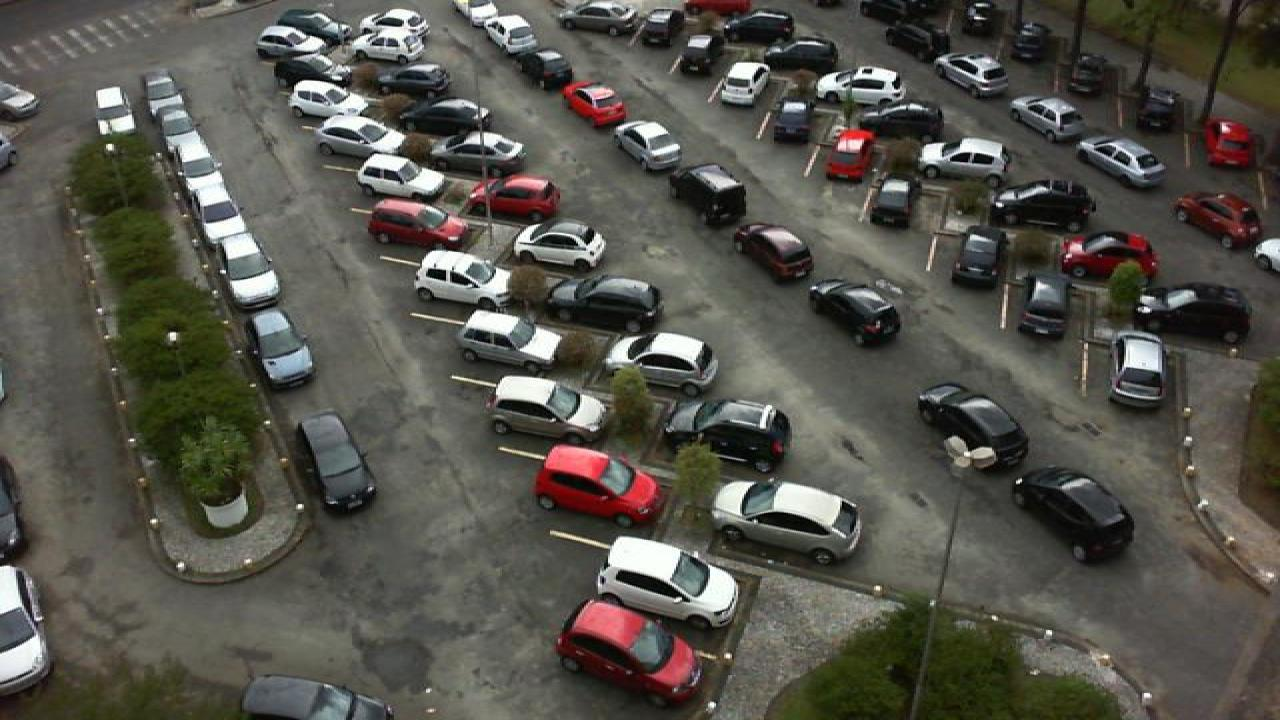Car: (554, 598, 706, 706), (592, 534, 742, 629), (706, 479, 862, 564), (1010, 464, 1136, 564), (534, 443, 660, 530), (662, 396, 796, 475), (916, 382, 1028, 472), (486, 373, 608, 444), (296, 411, 378, 514), (1136, 280, 1256, 346), (602, 332, 722, 397), (236, 674, 398, 720), (0, 564, 54, 698), (546, 275, 662, 333), (806, 278, 902, 348), (456, 310, 564, 371), (414, 249, 514, 308), (242, 308, 316, 387), (988, 179, 1096, 233), (1172, 190, 1264, 251), (366, 198, 466, 250), (512, 220, 608, 274), (672, 162, 752, 226), (732, 222, 818, 281), (1058, 231, 1160, 280), (1108, 329, 1170, 408), (1078, 135, 1168, 189), (308, 114, 408, 160), (356, 153, 446, 203), (468, 174, 562, 221), (920, 136, 1012, 182), (220, 250, 284, 312), (814, 64, 910, 105), (432, 131, 526, 171), (614, 119, 684, 170), (950, 223, 1004, 289), (1010, 94, 1082, 143), (860, 101, 948, 141), (936, 53, 1010, 100), (1018, 274, 1072, 338), (402, 99, 490, 136), (820, 127, 878, 183), (864, 174, 922, 228), (560, 81, 628, 127), (290, 79, 366, 120), (554, 1, 644, 35), (256, 21, 332, 61), (760, 38, 842, 75), (1202, 117, 1258, 171), (368, 63, 454, 97), (352, 30, 430, 66), (884, 23, 954, 63), (714, 61, 772, 108), (208, 227, 262, 277), (722, 9, 798, 44), (272, 53, 350, 87), (474, 15, 538, 56), (496, 33, 556, 73), (170, 138, 222, 182), (770, 102, 820, 146), (356, 8, 430, 37), (196, 198, 246, 240), (160, 111, 208, 153), (182, 170, 232, 210), (1130, 71, 1172, 118), (678, 32, 722, 76), (632, 8, 680, 48), (274, 8, 342, 36), (1066, 52, 1106, 98), (1012, 20, 1050, 63), (94, 84, 138, 121), (150, 89, 192, 127), (140, 68, 178, 102)
